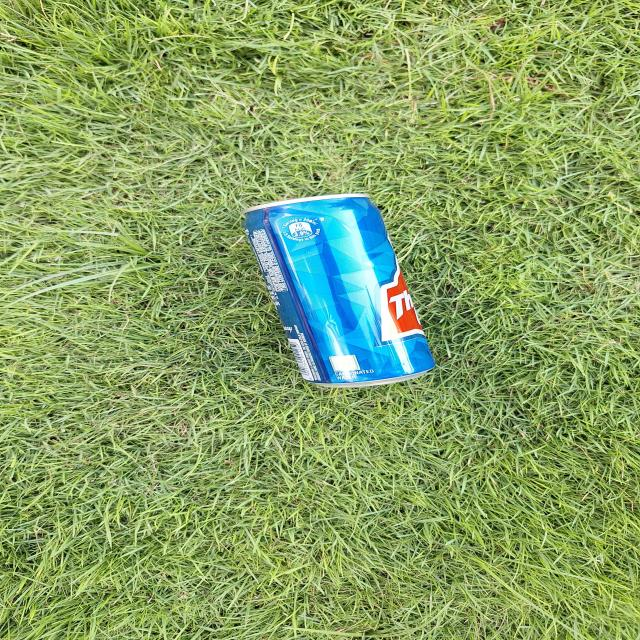Thums Up: (240, 185, 435, 389)
